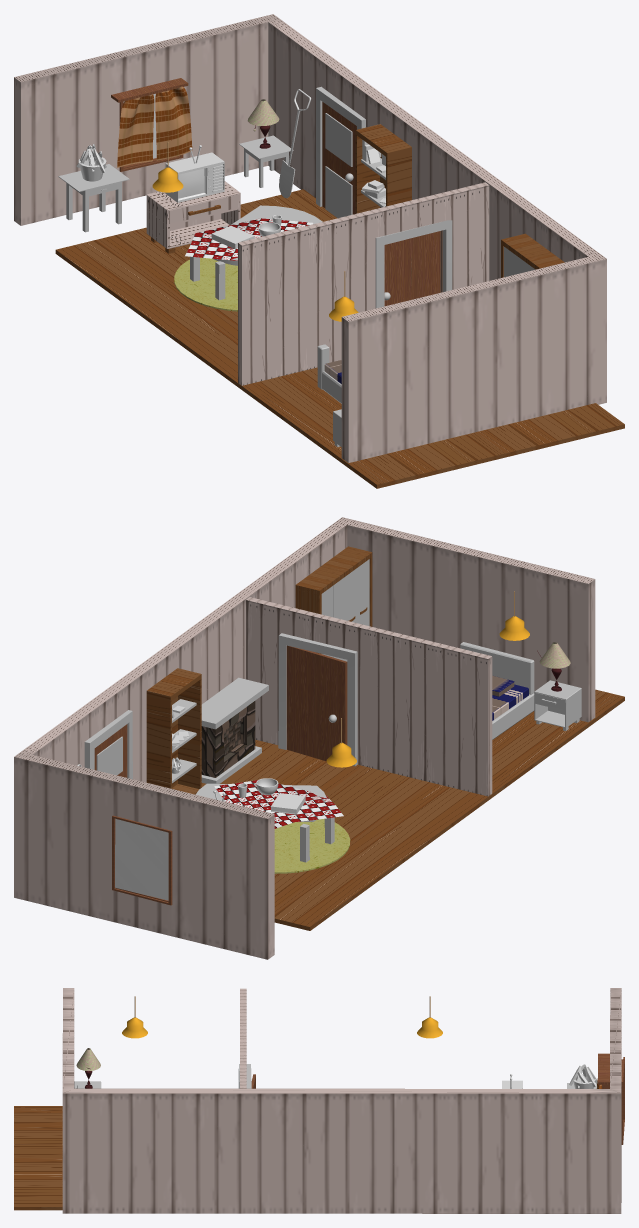
The model's file is pintu.FBX.
3 renders of one model, top to bottom at view 1: azimuth 30°, elevation 25°; view 2: azimuth 150°, elevation 25°; view 3: azimuth 270°, elevation 25°, orthographic. The views are drawn at different scales.
Visible parts, largest first — view 1: Line023, Lantai, Line024, Box010, Box007, Box147, Gorden kanan001, Gorden kanan, KARPET, Line025, Plane003, TAPLAK MEJA (+9 smaller); view 2: Line023, Line024, Lantai, Box007, Box147, Box131, Line003, KARPET, Box004, TAPLAK MEJA, LEMARI, Box005 (+9 smaller); view 3: Line023, Lantai, Line024, Cylinder116, Cylinder118, Box132, CUP LAMPU KAMAR, CasementWindow001.
Part boxes in pixels (left/top/right/bottom): Line023: left=14, top=14, right=606, bottom=462; Lantai: left=55, top=189, right=624, bottom=488; Line024: left=238, top=182, right=489, bottom=385; Box010: left=146, top=181, right=240, bottom=248; Box007: left=384, top=231, right=440, bottom=306; Box147: left=355, top=124, right=411, bottom=213; Gorden kanan001: left=155, top=86, right=192, bottom=160; Gorden kanan: left=117, top=94, right=154, bottom=167; KARPET: left=174, top=257, right=237, bottom=311; Line025: left=375, top=220, right=452, bottom=308; Plane003: left=58, top=164, right=129, bottom=232; TAPLAK MEJA: left=185, top=218, right=313, bottom=260; Line023: left=14, top=517, right=595, bottom=959; Line024: left=246, top=597, right=492, bottom=796; Lantai: left=201, top=689, right=624, bottom=930; Box007: left=286, top=645, right=347, bottom=761; Box147: left=146, top=668, right=201, bottom=794; Box131: left=115, top=818, right=168, bottom=900; Line003: left=278, top=633, right=357, bottom=766; KARPET: left=274, top=819, right=350, bottom=873; Box004: left=201, top=701, right=255, bottom=777; TAPLAK MEJA: left=214, top=780, right=343, bottom=828; LEMARI: left=295, top=546, right=372, bottom=653; Box005: left=201, top=677, right=268, bottom=729; Line023: left=62, top=988, right=621, bottom=1213; Lantai: left=14, top=1106, right=62, bottom=1210; Line024: left=240, top=988, right=246, bottom=1088; Cylinder116: left=417, top=1017, right=442, bottom=1038; Cylinder118: left=122, top=1017, right=147, bottom=1038; Box132: left=598, top=1053, right=609, bottom=1084; CUP LAMPU KAMAR: left=76, top=1048, right=100, bottom=1070; CasementWindow001: left=602, top=1057, right=624, bottom=1144.
Size of the model in its own units: 1352 by 769 by 3294.
